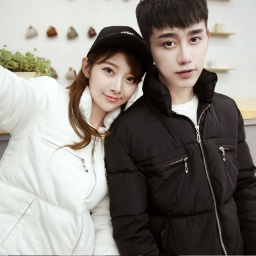face: (137, 1, 212, 89), (76, 37, 143, 109)
